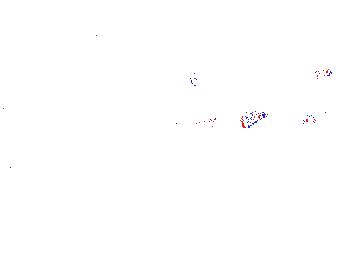glassfish: (158, 104, 268, 137)
red belly glassfish: (300, 107, 332, 126), (299, 66, 331, 79)
redtail glassfish: (187, 69, 216, 89)
